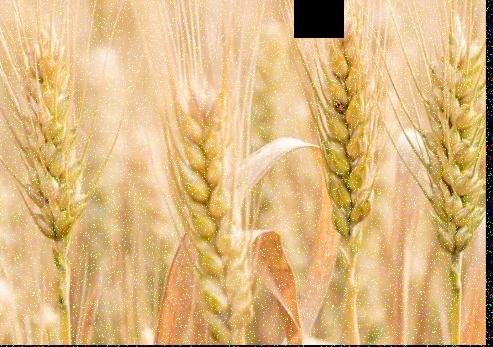wheat: (165, 88, 265, 335), (315, 5, 374, 277), (17, 23, 82, 267), (424, 25, 485, 272)
